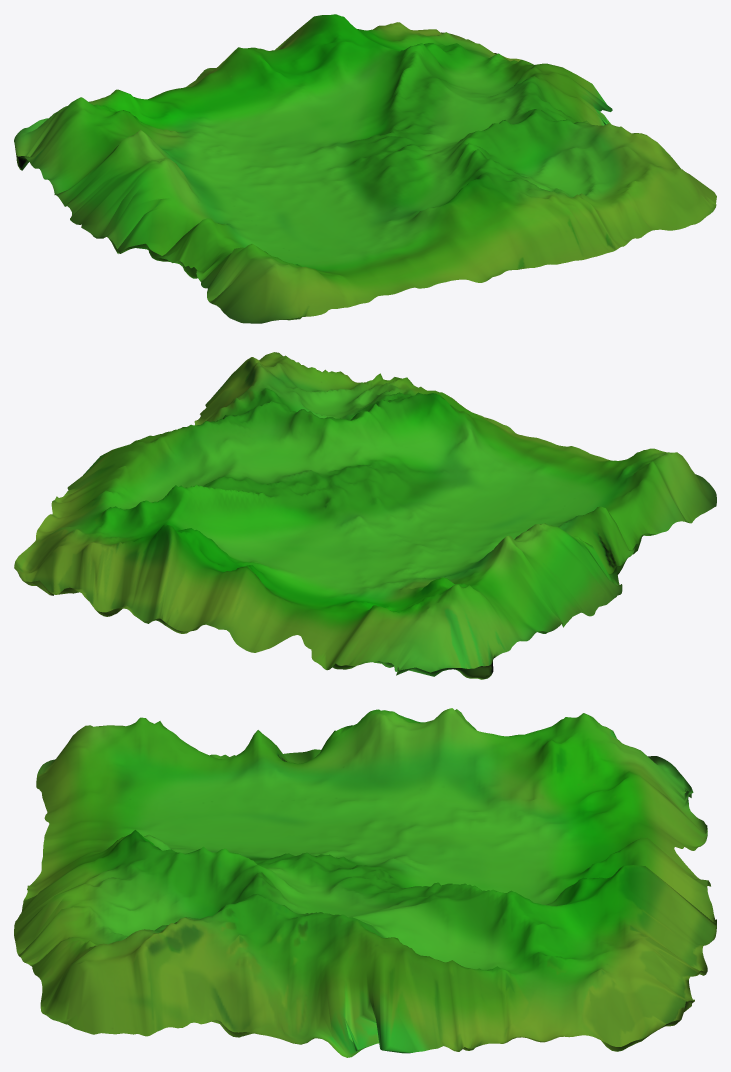
File: Firstisland.fbx
3 renders of one model, top to bottom at view 1: azimuth 30°, elevation 25°; view 2: azimuth 150°, elevation 25°; view 3: azimuth 270°, elevation 25°, orthographic. The views are drawn at different scales.
Visible parts, largest first — view 1: Landscape.010; view 2: Landscape.010; view 3: Landscape.010.
Part boxes in pixels (x1=…): Landscape.010: x1=14, y1=14, x2=716, y2=323; Landscape.010: x1=14, y1=352, x2=716, y2=679; Landscape.010: x1=14, y1=708, x2=716, y2=1057.
Size of the model in its own units: 11926 by 1816 by 11431.
Materials: 1 (1 with a texture image).
